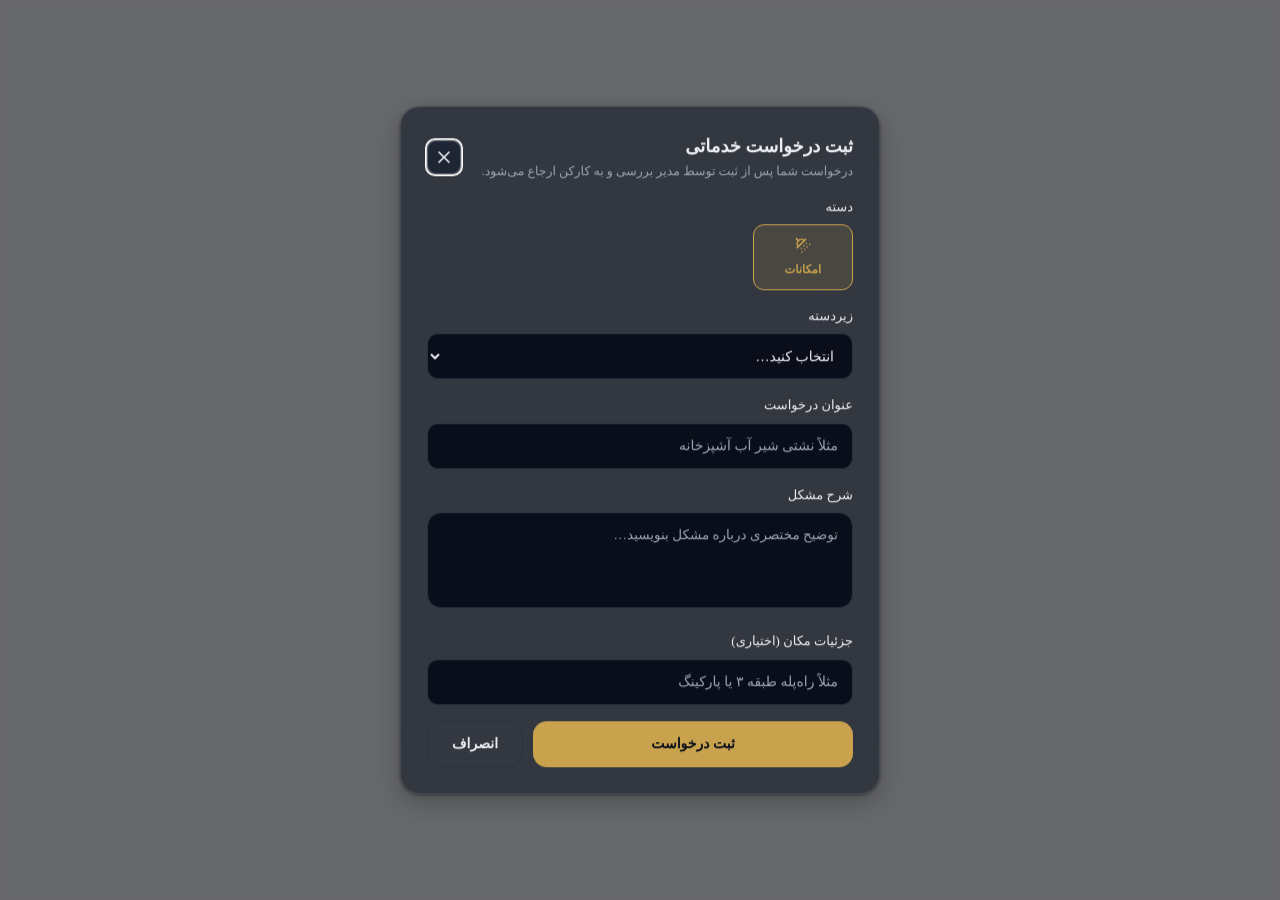
Scenario: RequestModal › rejects a submission with too-short a title
Click the button "ثبت درخواست" at coordinates (693, 744), box x1=533 y1=721 x2=853 y2=767
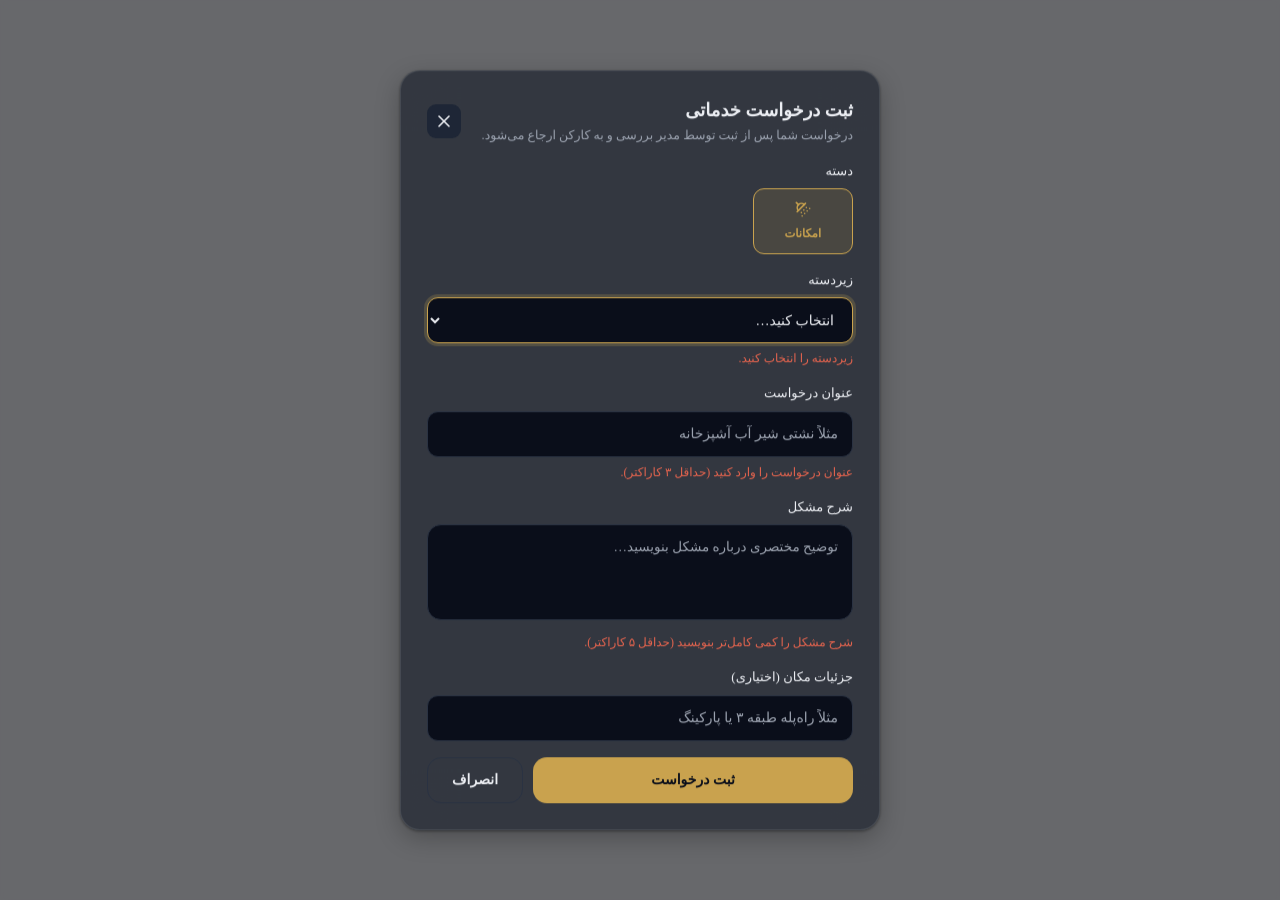
Check: the text "زیر‌دسته را انتخاب کنید." is shown, box x1=738 y1=351 x2=853 y2=365
